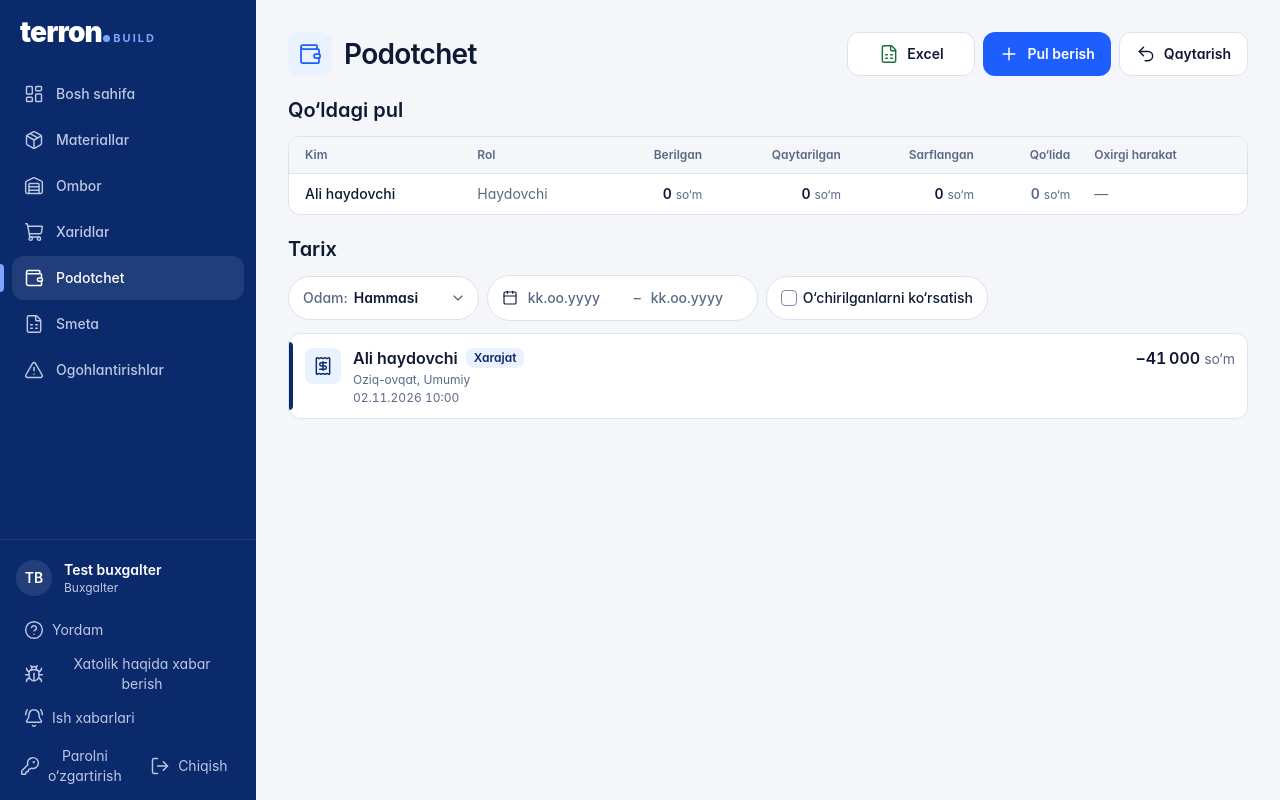
Test: /cash › xarajatdan sarf: tafsilotda "Xarajat", xarajat turi va "Umumiy"
The image size is (1280, 800).
Step 1. Click the button that starts with "Ali haydovchi" → coordinates (323, 366), box [289,334,1247,418]
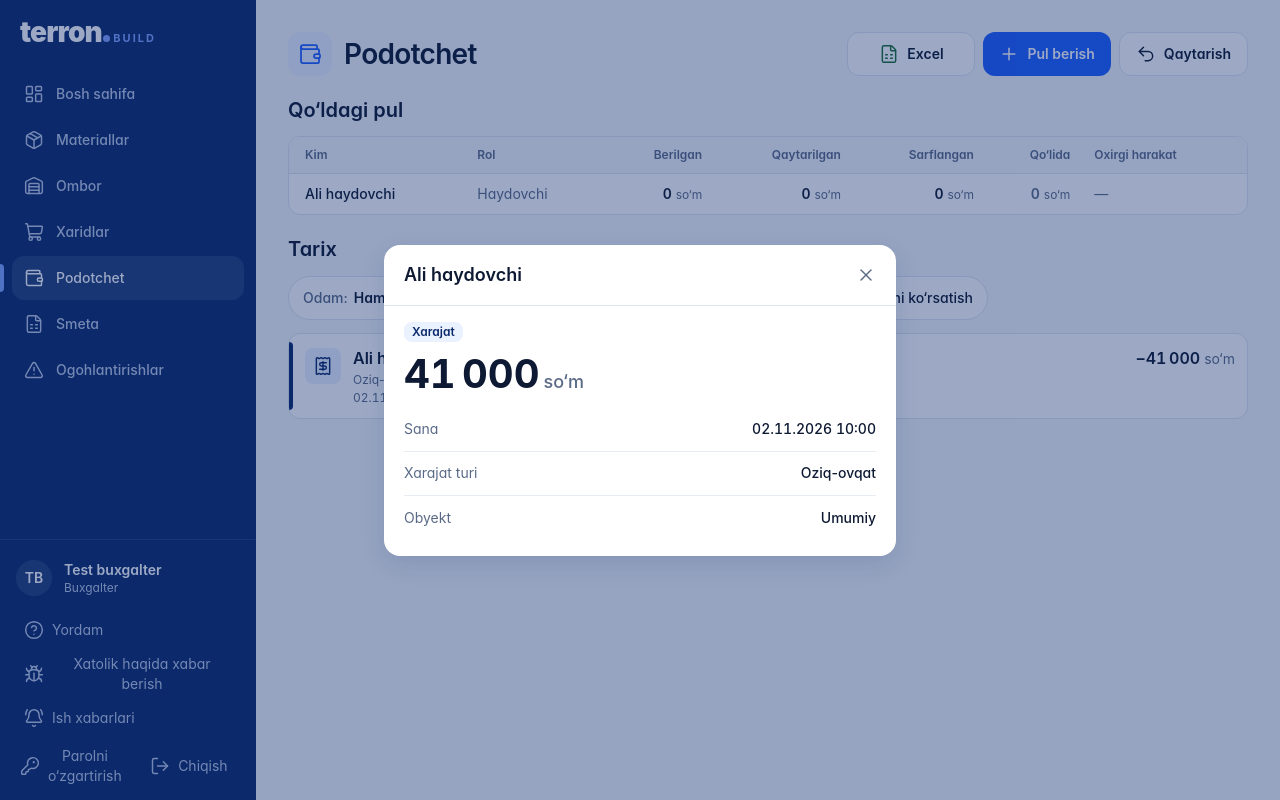
Expected: the text "Xarajat" is shown, [404,322,463,342]
Expected: the text "Xarajat turi" is shown, [404,463,478,483]
Expected: the text "Oziq-ovqat" is shown, [801,463,876,483]
